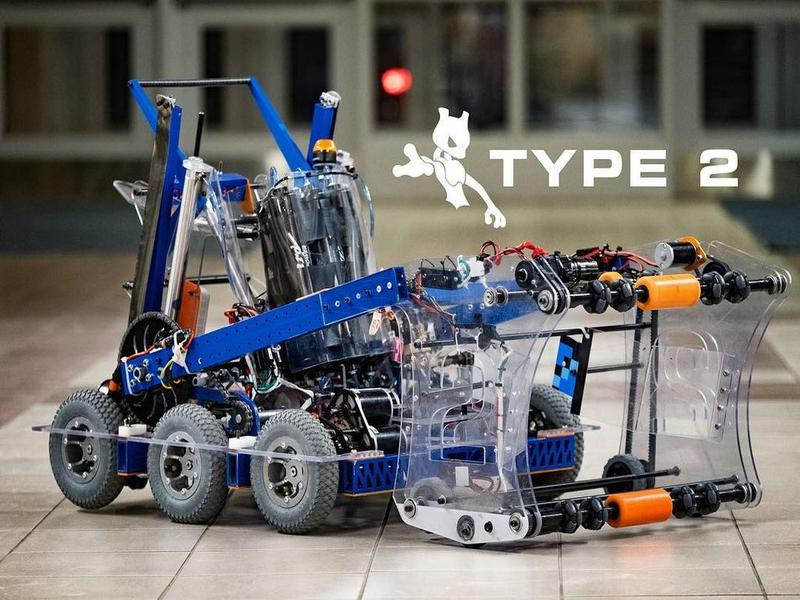robot: (41, 77, 773, 542)
